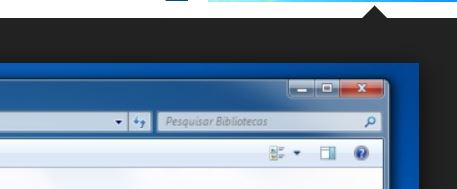close: (338, 78, 384, 99)
